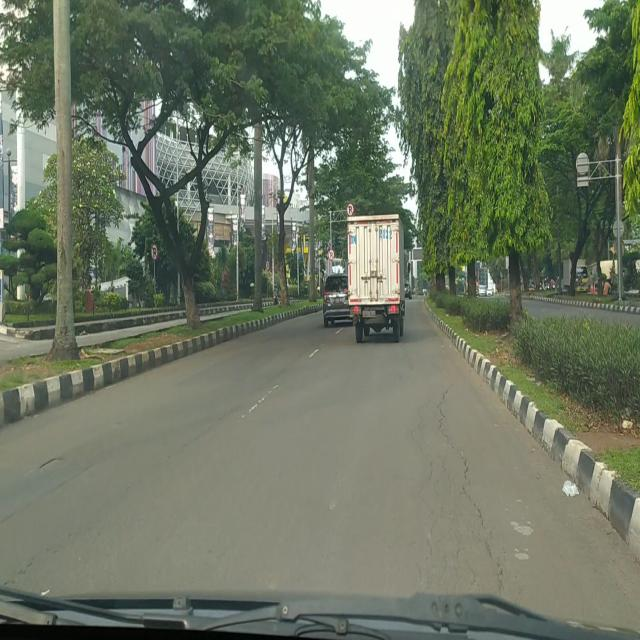Drain Hole: (412, 384, 508, 593)
